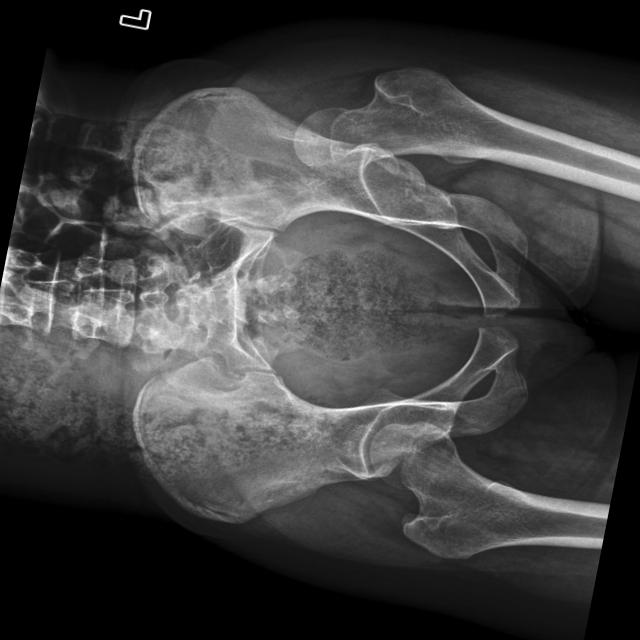left-dislocation: (293, 65, 556, 178)
normal-right: (370, 419, 609, 558)
